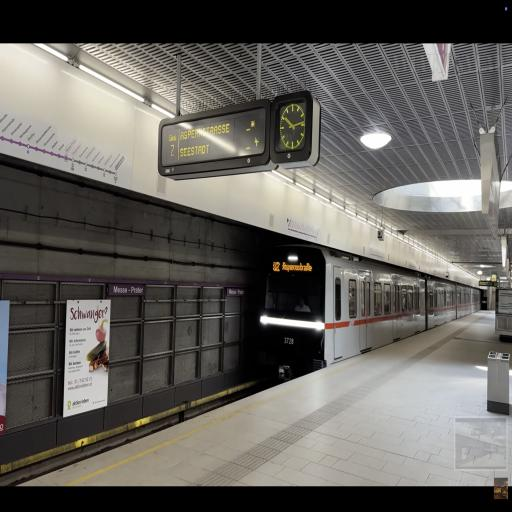X-Wagen: (259, 242, 480, 369)
